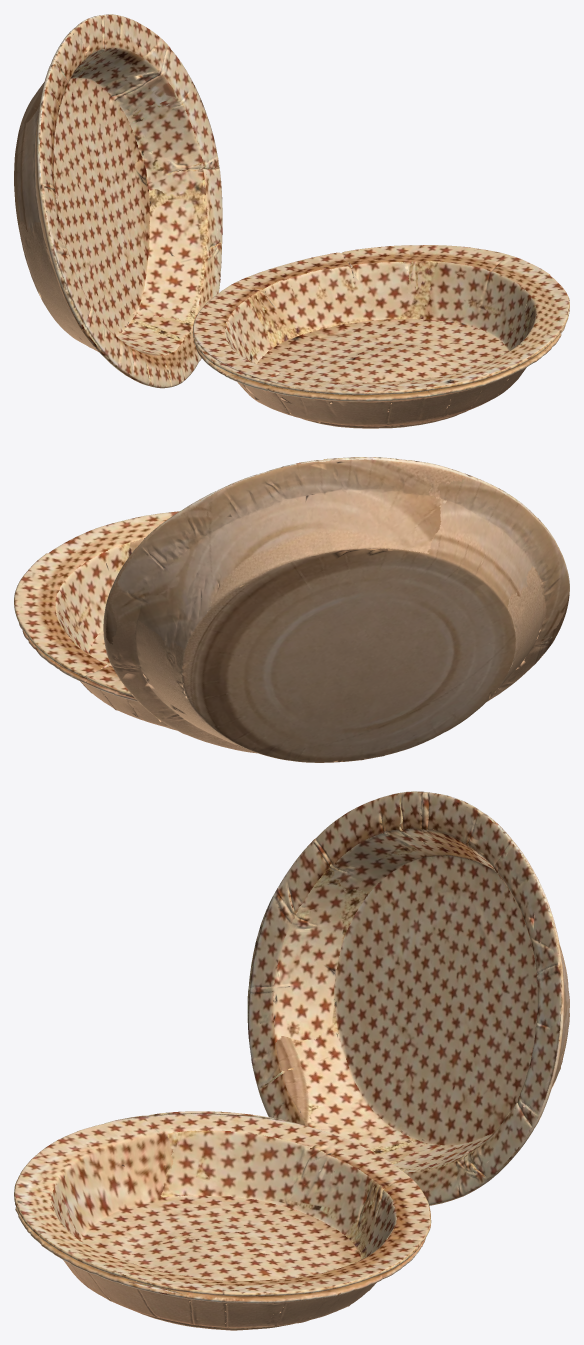
File: oauth-optimized-compressed.glb
The picture shows the model from 3 angles, top to bottom: view 1: azimuth 30°, elevation 25°; view 2: azimuth 150°, elevation 25°; view 3: azimuth 270°, elevation 25°; orthographic projection. The views are drawn at different scales.
Visible parts, largest first — view 1: Mesh_0; view 2: Mesh_0; view 3: Mesh_0.
Boxes of the visible parts, x1=… form: Mesh_0: x1=14, y1=14, x2=569, y2=428; Mesh_0: x1=14, y1=457, x2=569, y2=762; Mesh_0: x1=14, y1=791, x2=569, y2=1330.
Bounding box in the file's own units: 1 × 0.654 × 0.8965.
Materials: 1 (1 with a texture image).
